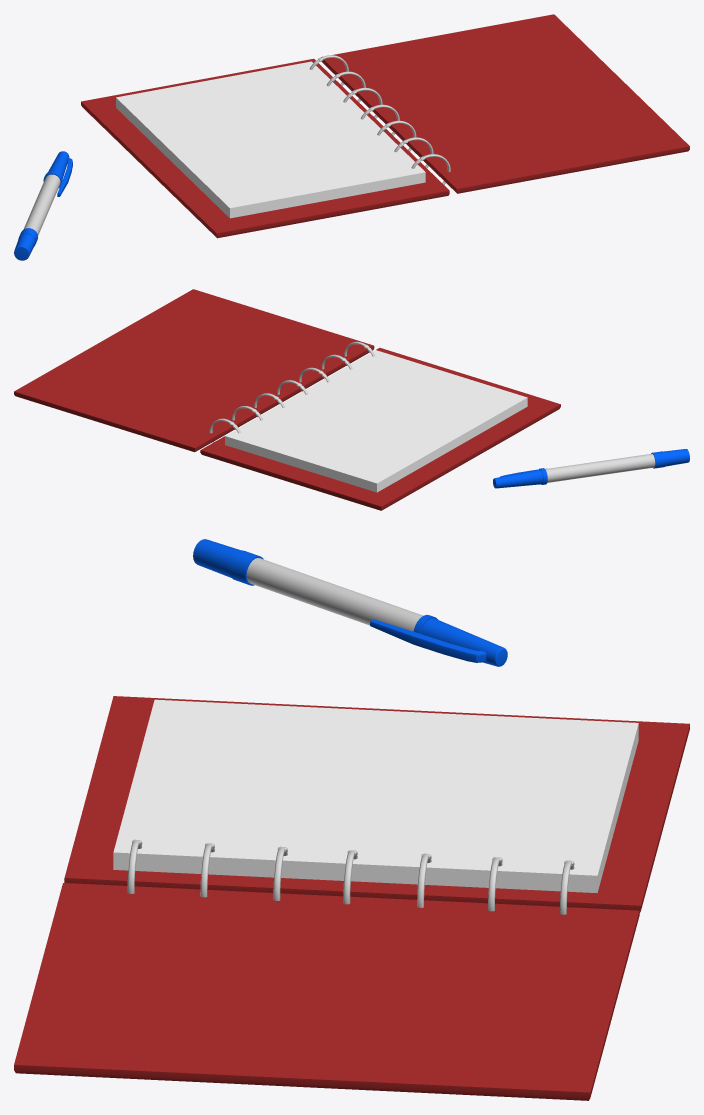
Rendered from notebook_and_pen.glb.
3 views of the same model, one above another, from view 1: azimuth 30°, elevation 25°; view 2: azimuth 150°, elevation 25°; view 3: azimuth 270°, elevation 25° (orthographic). The views are drawn at different scales.
Visible parts, largest first — view 1: Object_3, Object_2, Object_4, Object_5; view 2: Object_3, Object_2, Object_4, Object_5; view 3: Object_3, Object_2, Object_4, Object_5.
Part boxes in pixels (x1,y1,x2,y2): Object_3: [81, 14, 689, 238]; Object_2: [116, 61, 425, 218]; Object_4: [24, 55, 450, 235]; Object_5: [14, 151, 72, 260]; Object_3: [14, 289, 560, 510]; Object_2: [225, 350, 527, 492]; Object_4: [209, 341, 655, 482]; Object_5: [493, 449, 689, 488]; Object_3: [14, 696, 689, 1100]; Object_2: [113, 699, 638, 893]; Object_4: [127, 558, 574, 914]; Object_5: [193, 539, 507, 666].
Size of the model in its own units: 17.71 by 0.9673 by 9.34.
